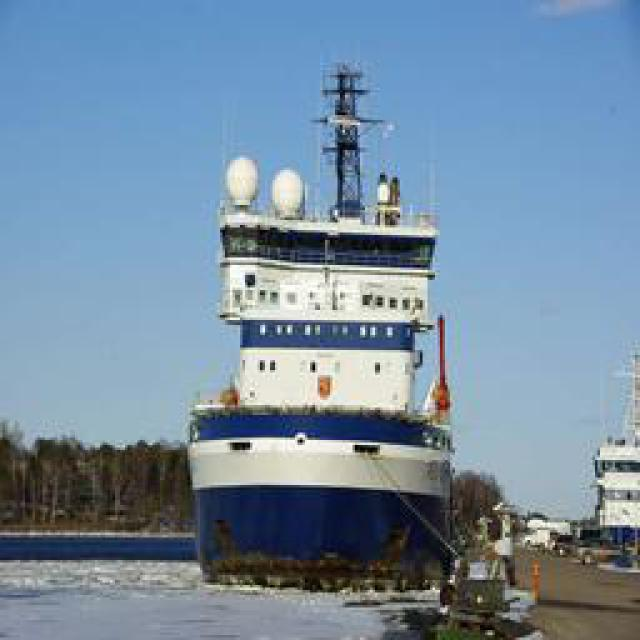Ship: (190, 51, 460, 591)
